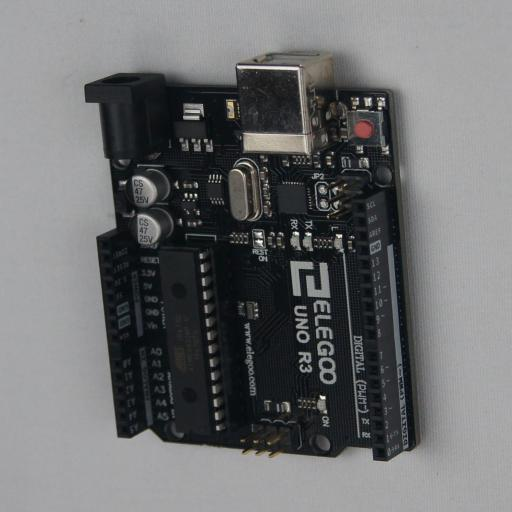Arduino Uno -Black-: (84, 52, 426, 461)
